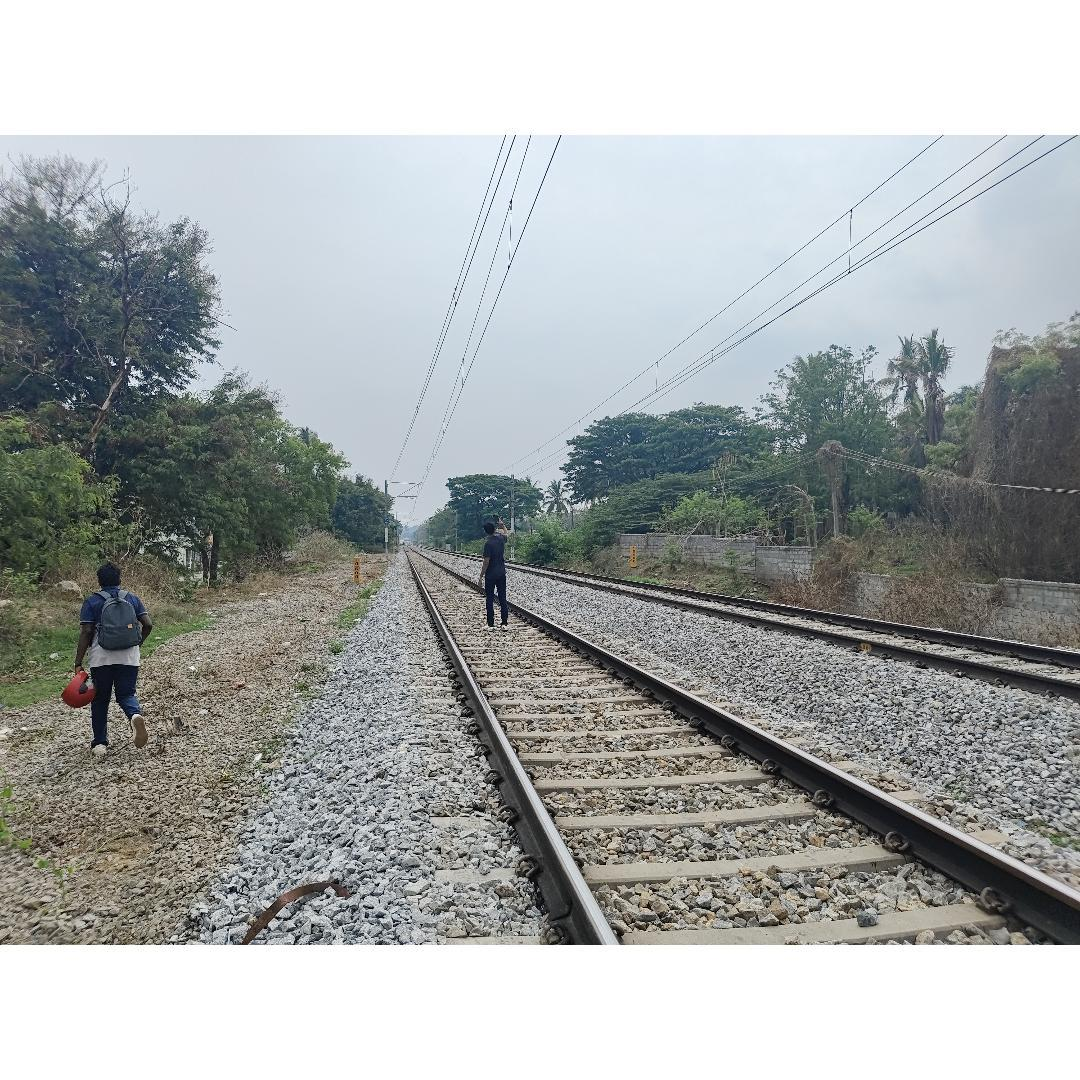standing: (71, 562, 153, 756), (477, 518, 511, 628)
track: (395, 541, 1080, 945)
